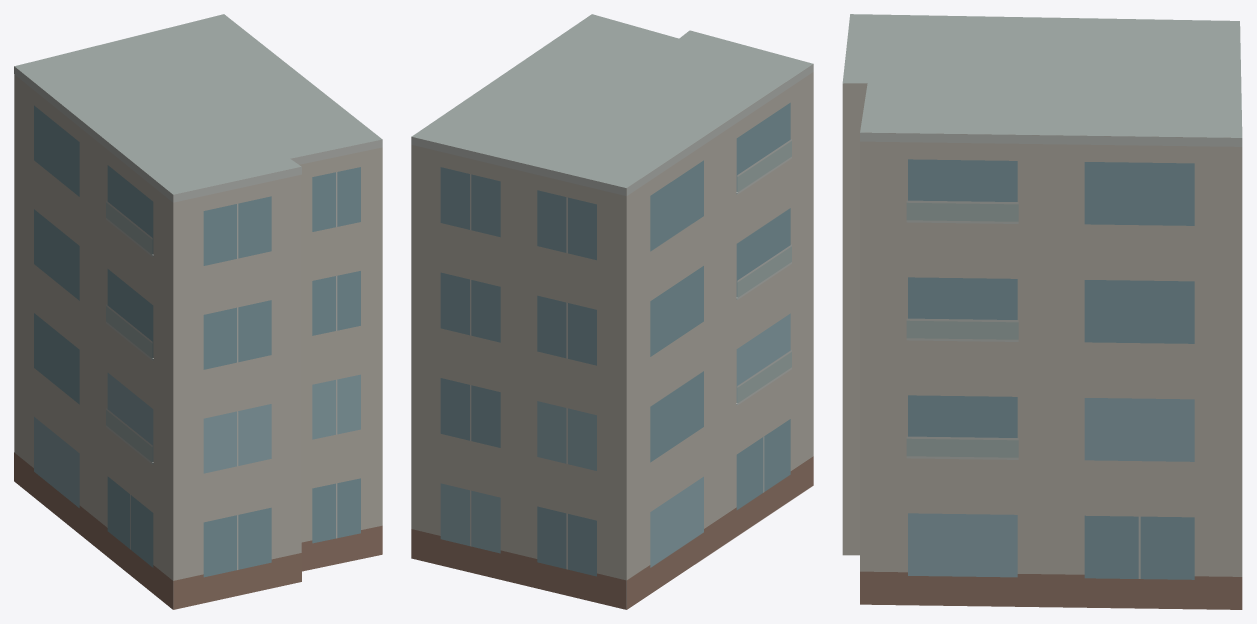
Rendered from survey-upis-32537073.glb.
3 views of the same model, side by side, from view 1: azimuth 30°, elevation 25°; view 2: azimuth 150°, elevation 25°; view 3: azimuth 270°, elevation 25° (orthographic). The views are drawn at different scales.
Parts seen in each view (by area): view 1: survey-upis-32537073.tmp; view 2: survey-upis-32537073.tmp; view 3: survey-upis-32537073.tmp.
Part boxes in pixels (x1,y1,x2,y2): survey-upis-32537073.tmp: (14,14,382,609); survey-upis-32537073.tmp: (411,14,813,609); survey-upis-32537073.tmp: (842,14,1242,609).
Bounding box in the file's own units: 7.22 × 12.8 × 9.84.
